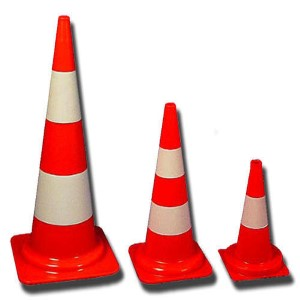traffic cone: (10, 14, 121, 286), (128, 101, 212, 284), (218, 158, 289, 281)
